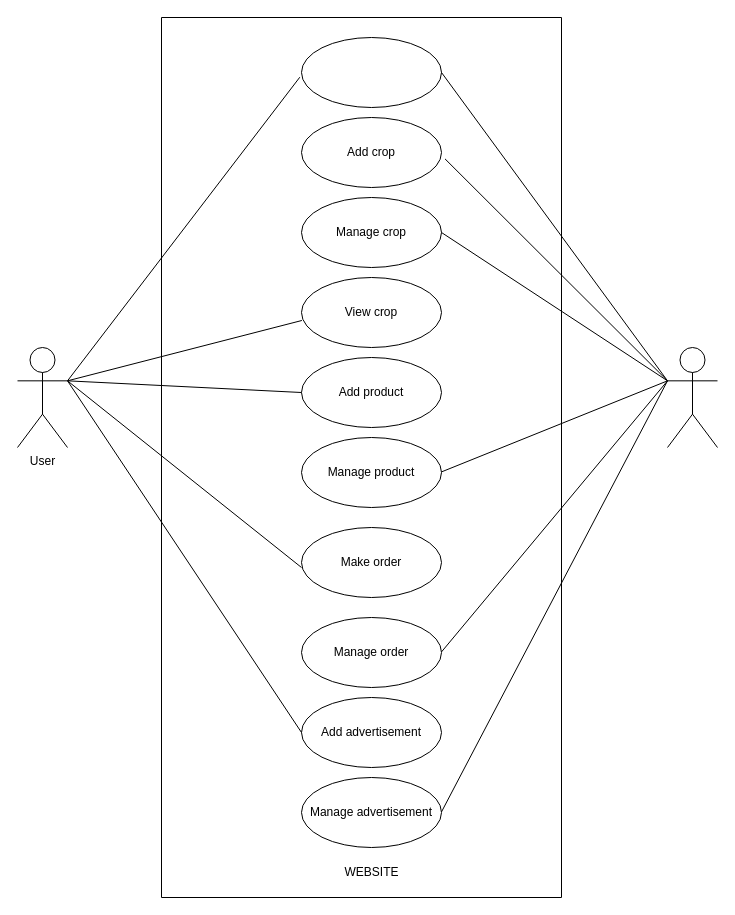
Some shapes in this 735 by 915 pixel diagram are drawn without their labels. The shapes that lost their labels are listed below. From the top down, each one's centre as x and y in pixels, then its label:
(371,72): Login
(692,397): Admin
